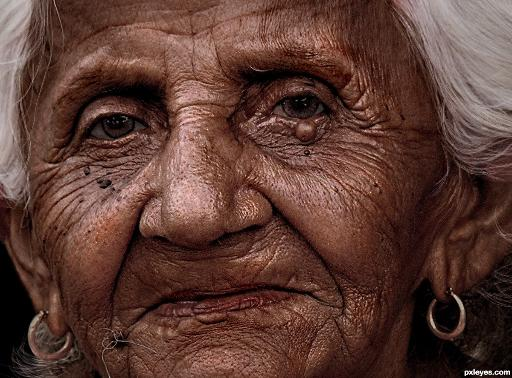left_eye: (268, 93, 335, 123)
left_lip_corner: (296, 286, 325, 306)
right_eye: (82, 112, 156, 144)
right_lip_corner: (141, 291, 177, 318)
